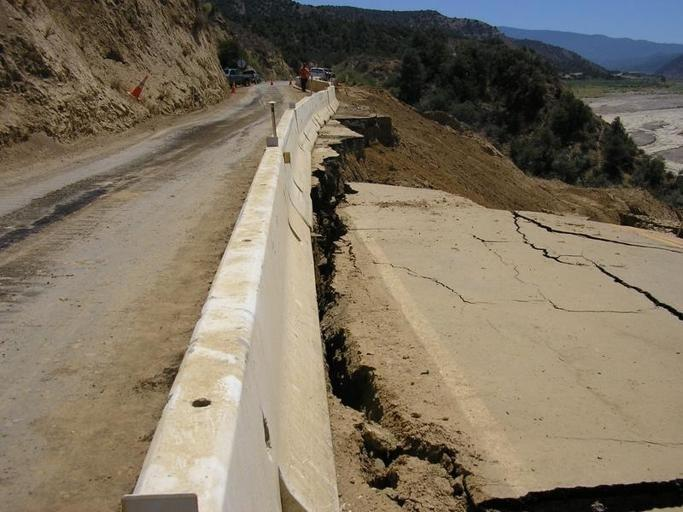Crack: (310, 175, 480, 512), (499, 209, 683, 344)
